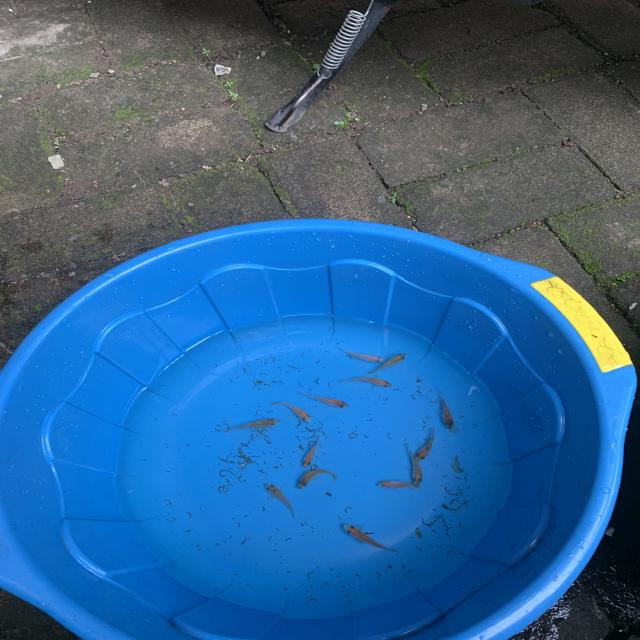nila: (342, 521, 404, 556), (258, 476, 302, 519), (364, 345, 416, 377), (219, 415, 289, 437), (290, 388, 358, 409), (264, 395, 314, 423), (297, 432, 329, 473), (291, 466, 341, 491), (403, 442, 429, 490), (413, 424, 443, 465), (331, 374, 397, 391), (341, 343, 386, 367), (436, 387, 458, 433), (372, 475, 426, 493)
